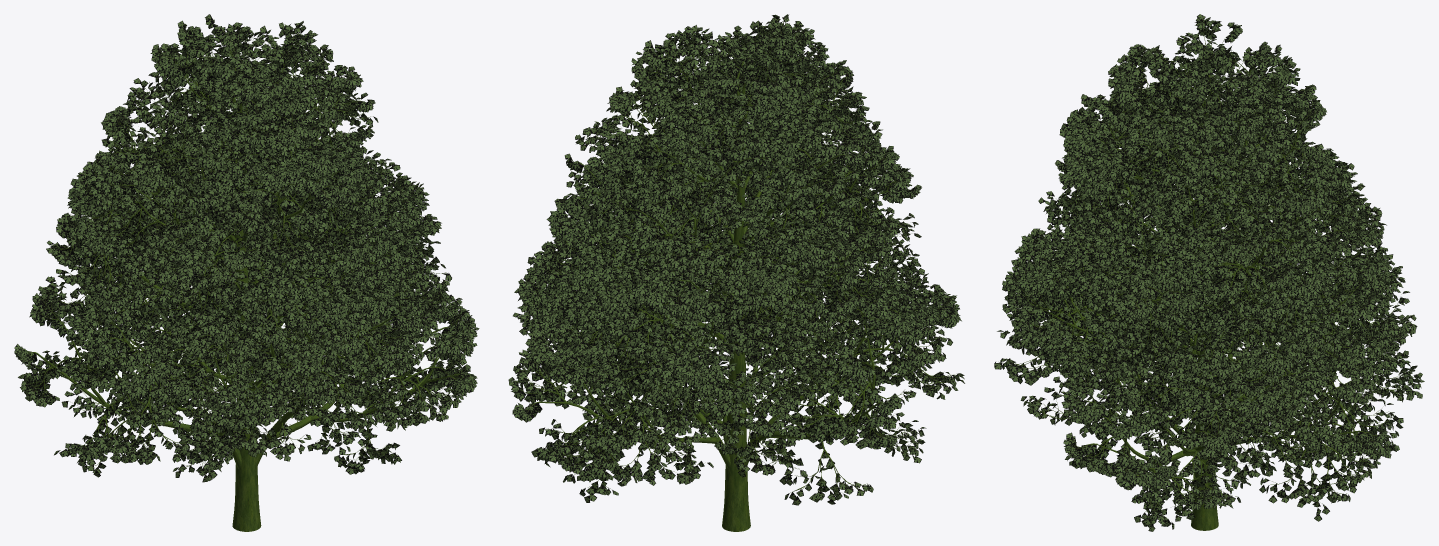
Rendered from arbre-transformed.glb.
The picture shows the model from 3 angles, left to right: view 1: azimuth 30°, elevation 25°; view 2: azimuth 150°, elevation 25°; view 3: azimuth 270°, elevation 25°; orthographic projection. The views are drawn at different scales.
Parts seen in each view (by area): view 1: Tree_Aesculus-hippocastanum_B_summer; view 2: Tree_Aesculus-hippocastanum_B_summer; view 3: Tree_Aesculus-hippocastanum_B_summer.
Boxes of the visible parts, x1=… form: Tree_Aesculus-hippocastanum_B_summer: x1=14, y1=14, x2=479, y2=531; Tree_Aesculus-hippocastanum_B_summer: x1=508, y1=14, x2=964, y2=531; Tree_Aesculus-hippocastanum_B_summer: x1=994, y1=14, x2=1424, y2=531.
Size of the model in its own units: 25.51 by 30.69 by 24.57.
Materials: 2 (2 with a texture image).
